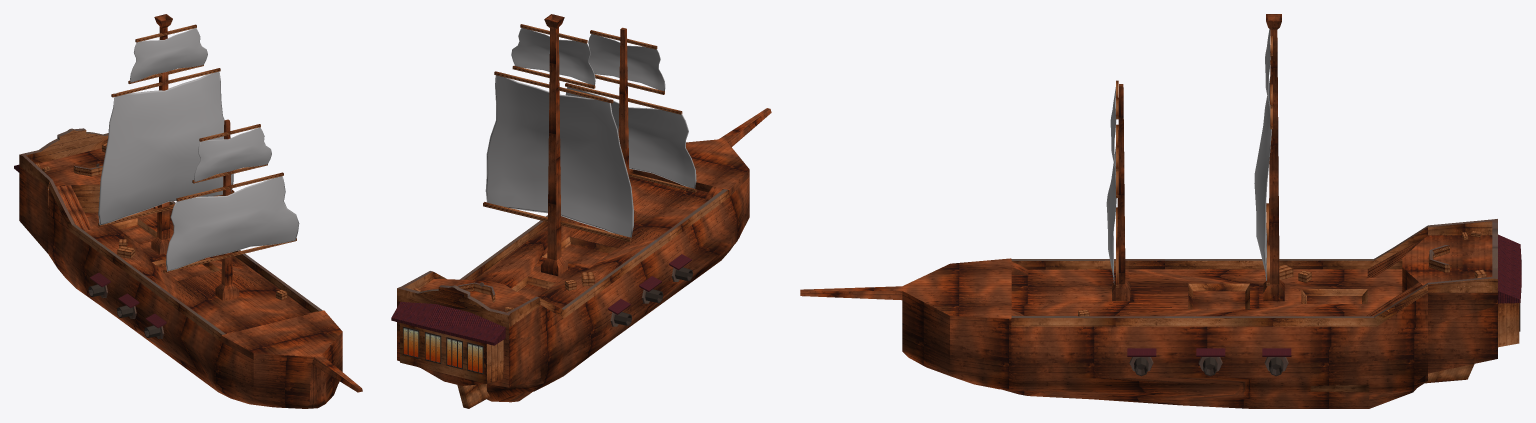
The model's file is Nship100HP.fbx.
3 views of the same model, side by side, from view 1: azimuth 30°, elevation 25°; view 2: azimuth 150°, elevation 25°; view 3: azimuth 270°, elevation 25° (orthographic). The views are drawn at different scales.
Visible parts, largest first — view 1: pCube1, pCube17, pCube42, pCube39, pCube28, pCube2, pCube43, pCube44, pCube19, pCube16; view 2: pCube1, pCube17, pCube42, pCube28, pCube39, pCube16, pCube6, pCube19, pCube44, pCube45, pCube31, pCube53 (+1 smaller); view 3: pCube1, pCube17, pCube42.
Part boxes in pixels (<box>): pCube1: <box>14,14,362,408</box>; pCube17: <box>98,71,233,225</box>; pCube42: <box>166,176,299,271</box>; pCube39: <box>194,127,271,181</box>; pCube28: <box>130,28,207,82</box>; pCube2: <box>56,185,92,230</box>; pCube43: <box>163,238,296,273</box>; pCube44: <box>176,172,283,201</box>; pCube19: <box>111,68,220,97</box>; pCube16: <box>98,190,234,226</box>; pCube1: <box>391,14,771,402</box>; pCube17: <box>485,75,633,237</box>; pCube42: <box>565,87,696,188</box>; pCube28: <box>511,28,595,85</box>; pCube39: <box>588,34,665,91</box>; pCube16: <box>483,202,631,241</box>; pCube6: <box>457,384,490,408</box>; pCube19: <box>494,71,613,103</box>; pCube44: <box>565,83,682,114</box>; pCube45: <box>425,333,440,362</box>; pCube31: <box>403,328,418,357</box>; pCube53: <box>468,343,482,372</box>; pCube1: <box>800,14,1521,408</box>; pCube17: <box>1254,77,1271,280</box>; pCube42: <box>1106,147,1116,284</box>.
Size of the model in its own units: 5.52 by 12.05 by 20.23.
